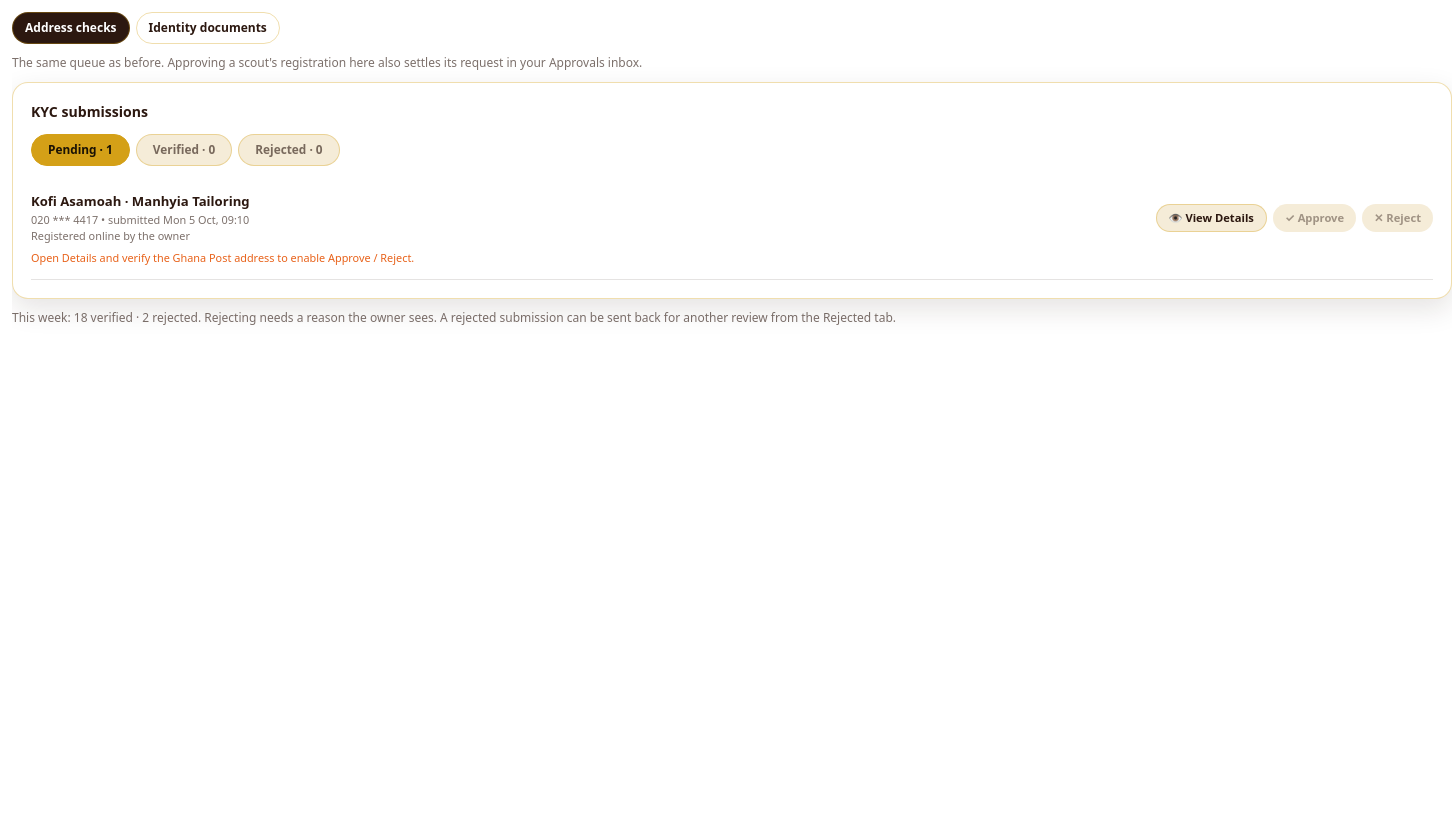
it: KYC queue (Operations canvas) › lets someone who can assign scouts send one to verify the address
Click the button "👁️ View Details" at (1211, 218), box x1=1156 y1=204 x2=1267 y2=232
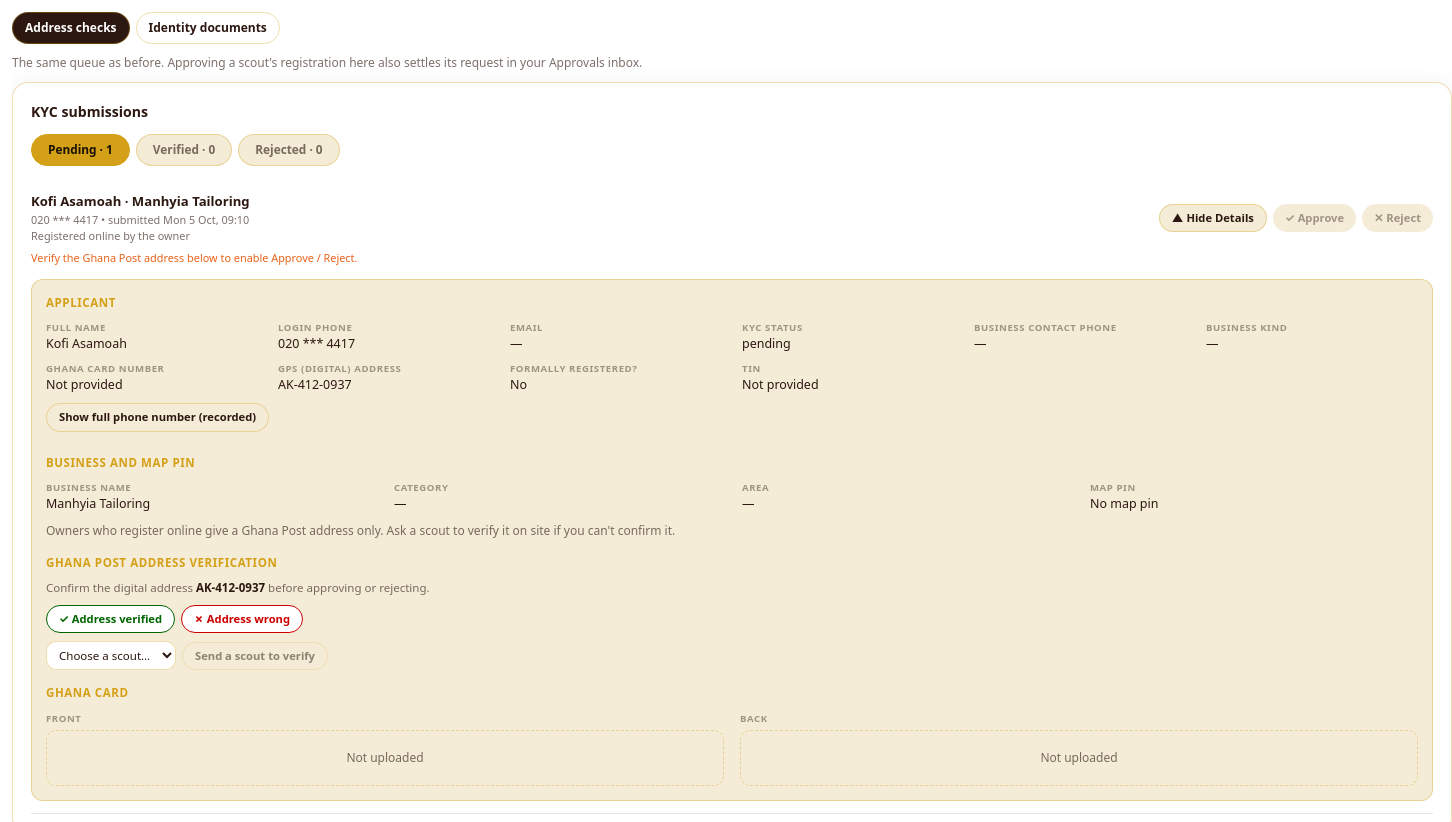
Result: the button "Send a scout to verify" is disabled at x1=182 y1=642 x2=328 y2=670
Select "Efua Mensah" in the dropdown named "Scout to send" at (111, 656), box x1=46 y1=642 x2=176 y2=670
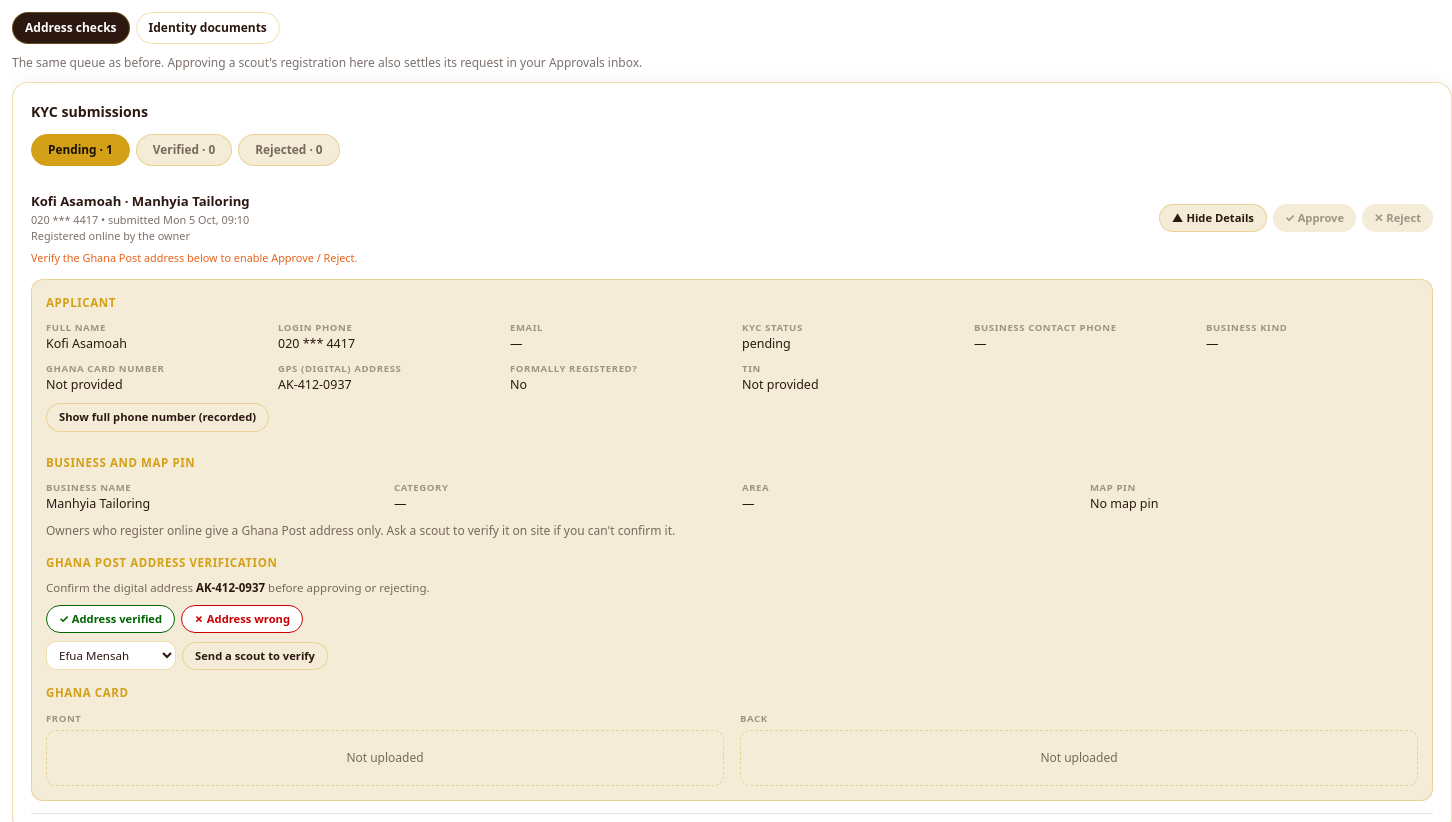
Click the button "Send a scout to verify" at (255, 656), box x1=182 y1=642 x2=328 y2=670
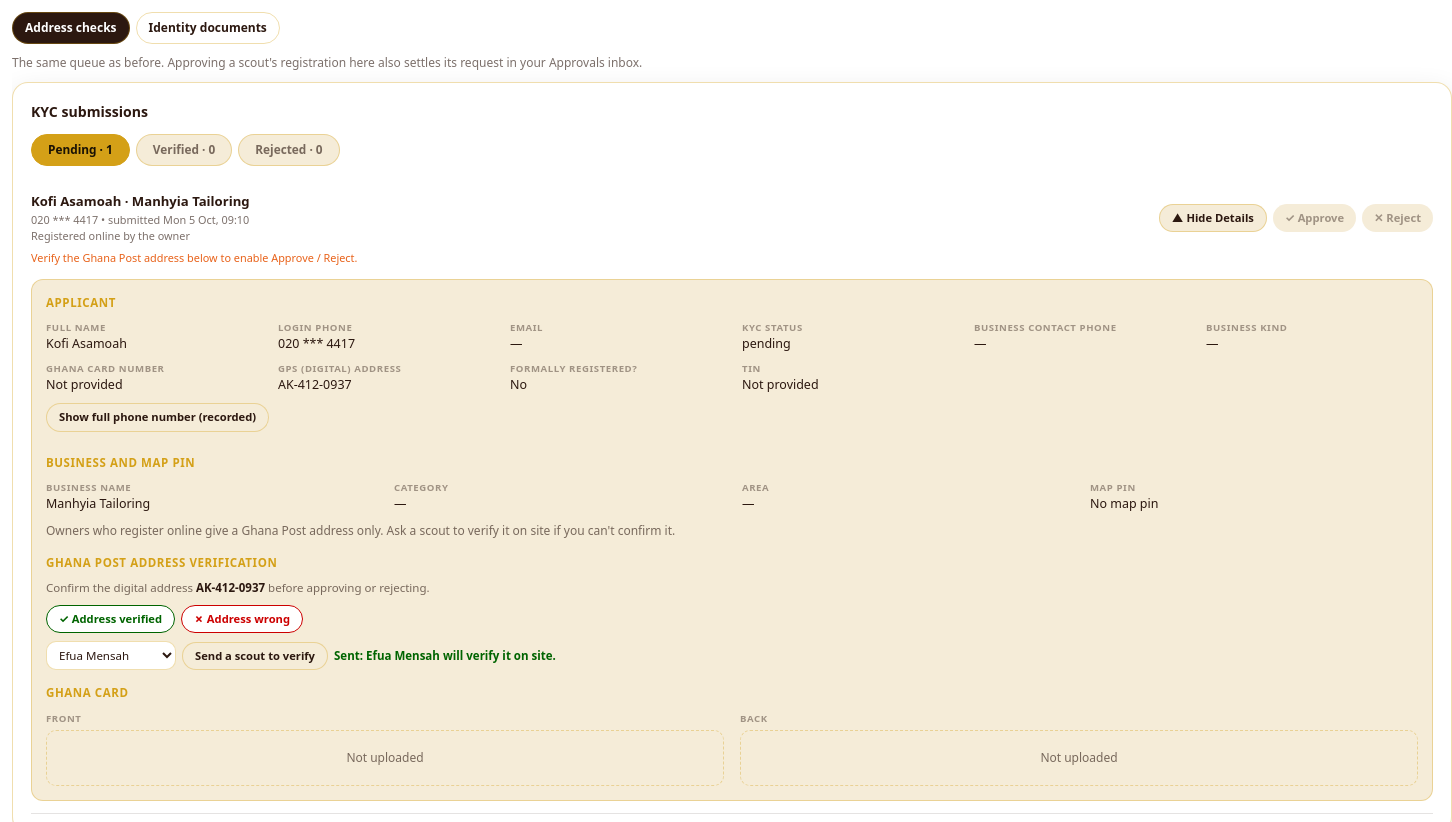
Result: the text "Sent: Efua Mensah will verify it on site." is shown at x1=334 y1=647 x2=556 y2=665
